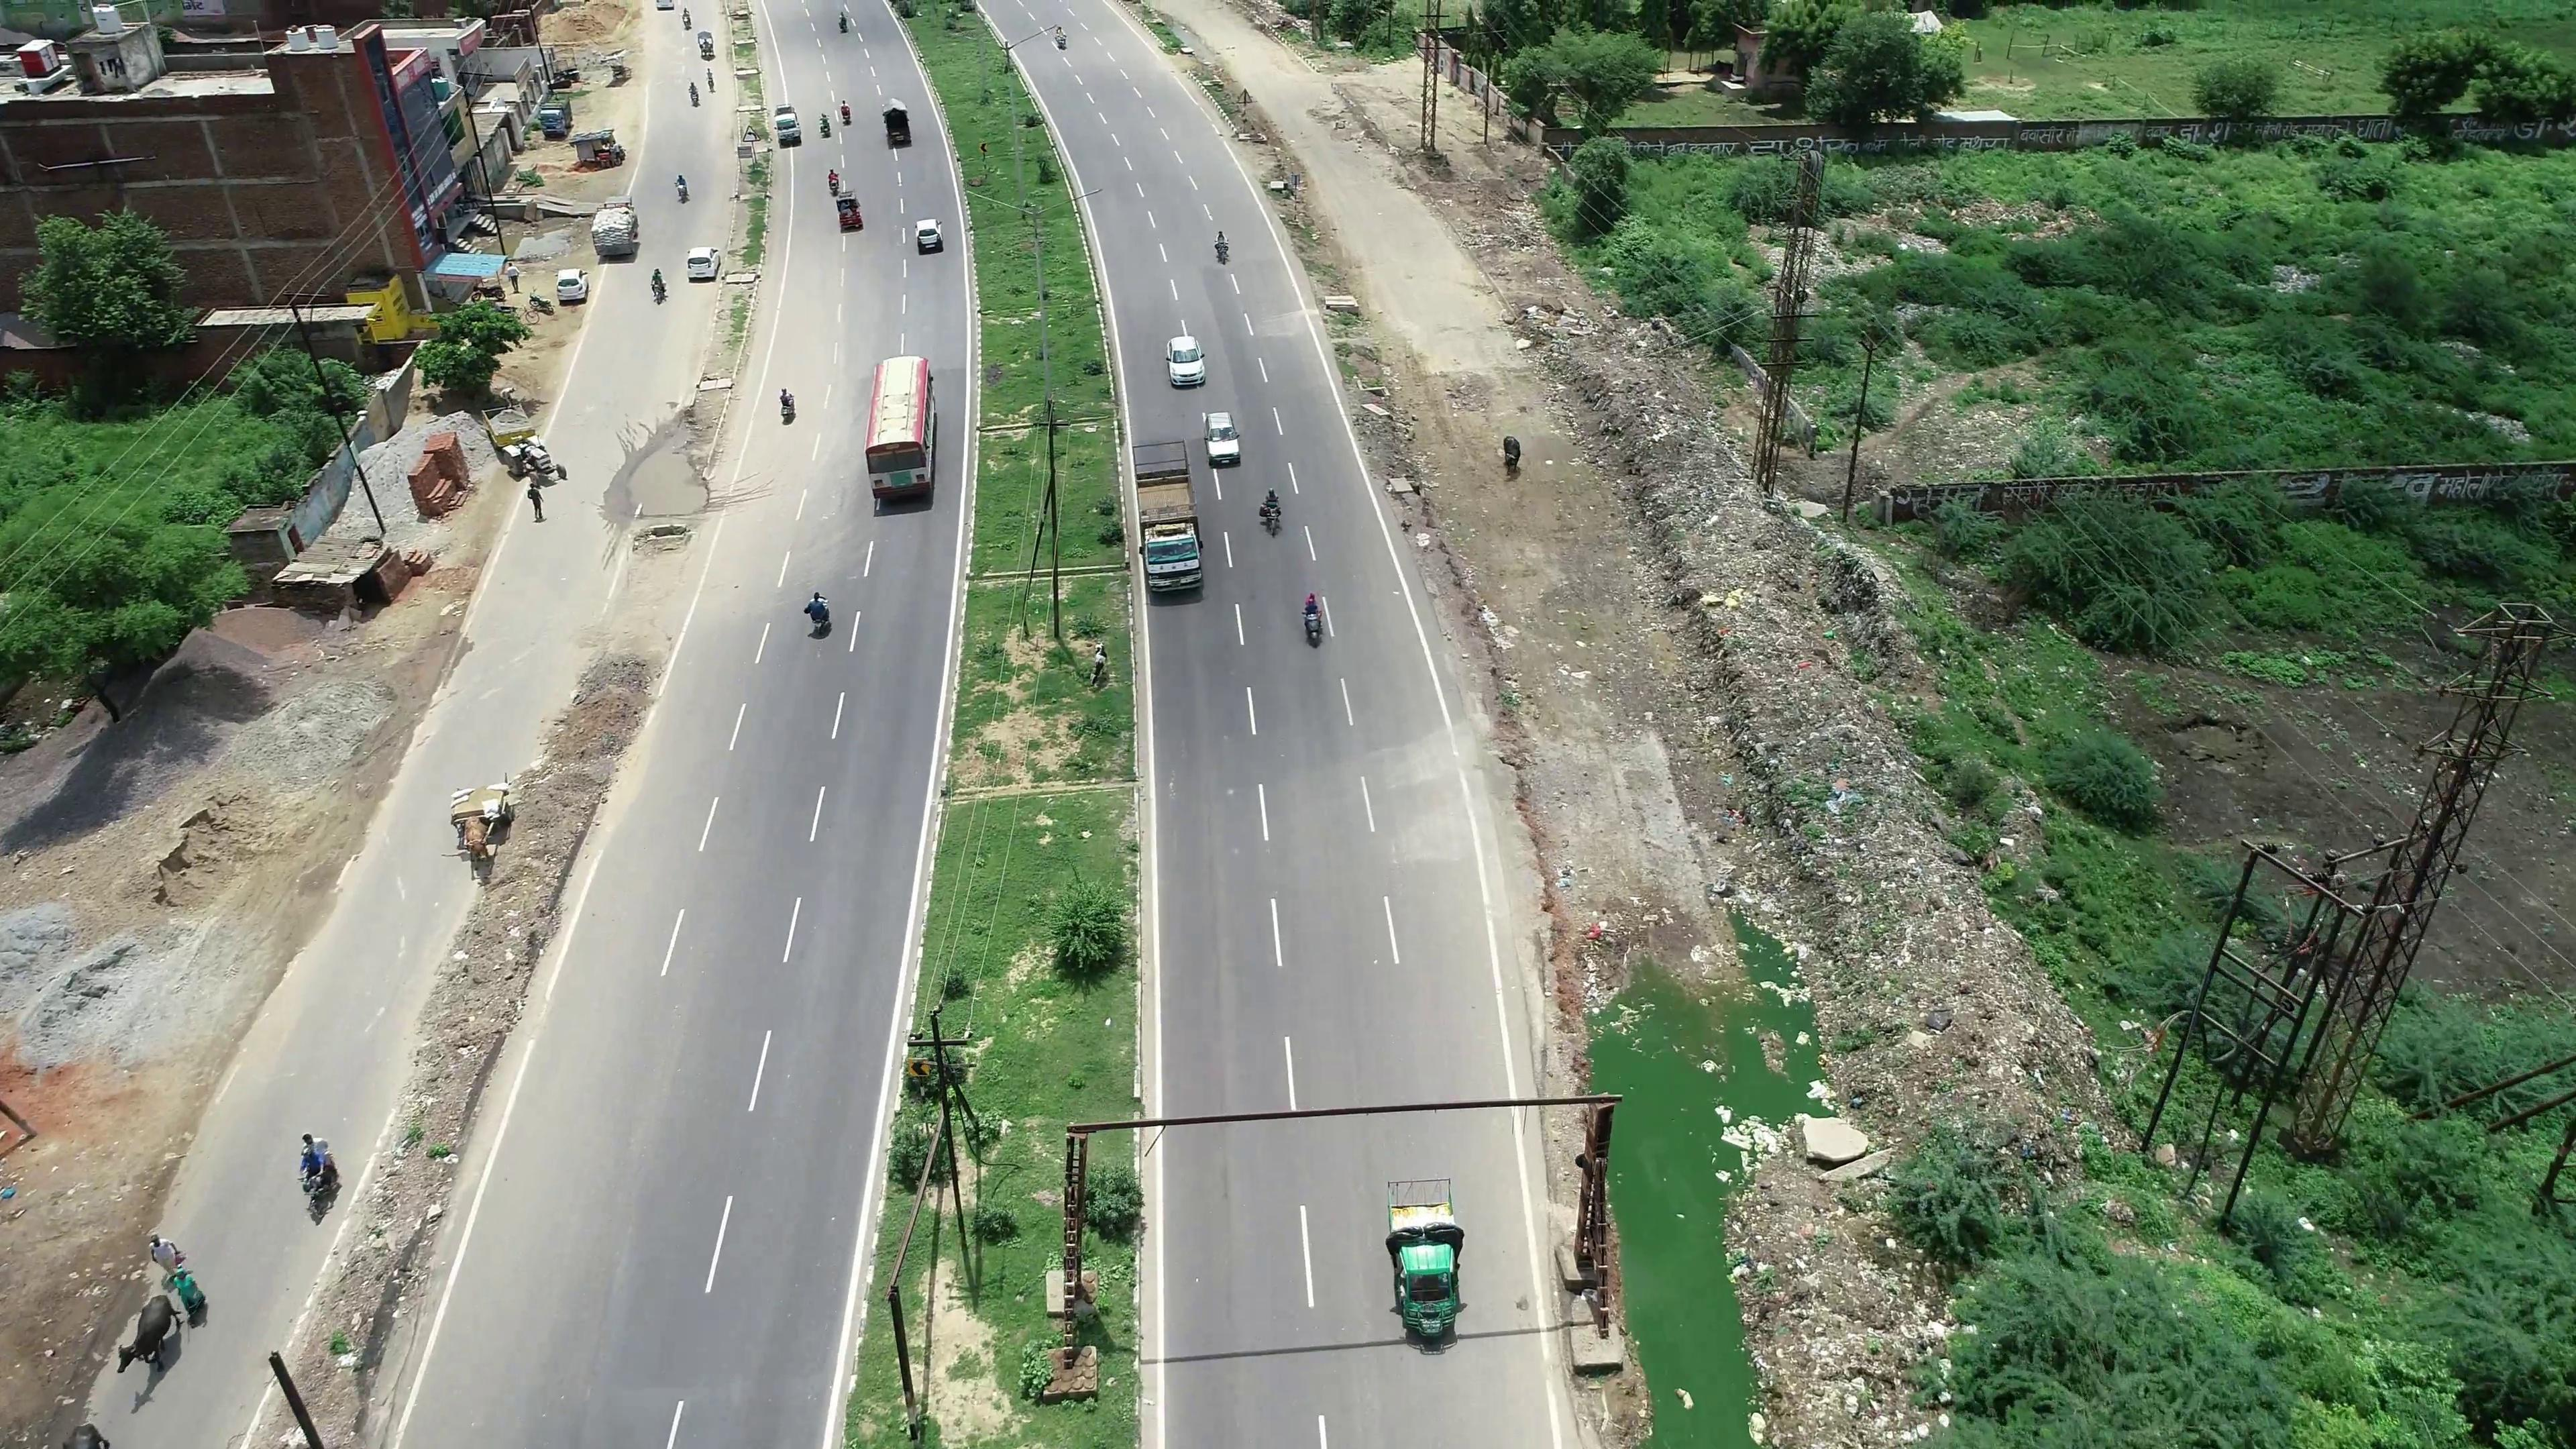Waterlogging: (621, 426, 706, 515)
